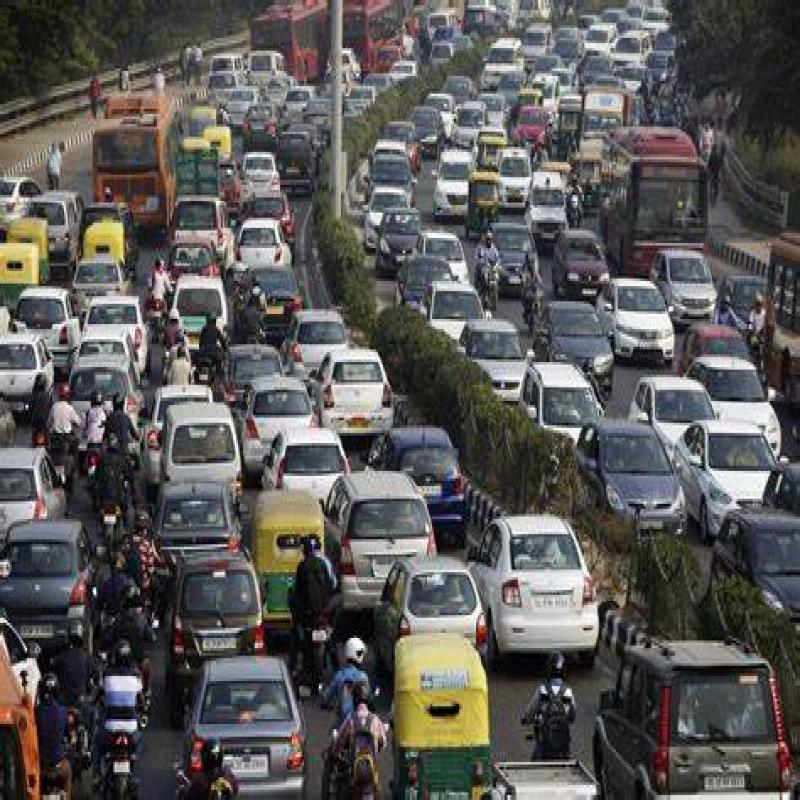auto: (389, 604, 490, 800)
bike: (101, 719, 150, 800)
car: (585, 621, 788, 800), (182, 640, 315, 800), (478, 512, 607, 646), (11, 511, 102, 669), (334, 480, 442, 609), (170, 544, 269, 680), (585, 417, 679, 540), (375, 423, 478, 534), (381, 558, 498, 650), (158, 475, 239, 607), (692, 413, 783, 526), (521, 341, 602, 448), (321, 339, 397, 450), (160, 404, 247, 499), (159, 403, 244, 498), (605, 263, 677, 372), (532, 300, 614, 380), (466, 306, 535, 401), (627, 372, 708, 452), (270, 429, 352, 507), (605, 265, 673, 358), (465, 310, 535, 398), (661, 234, 722, 334)
